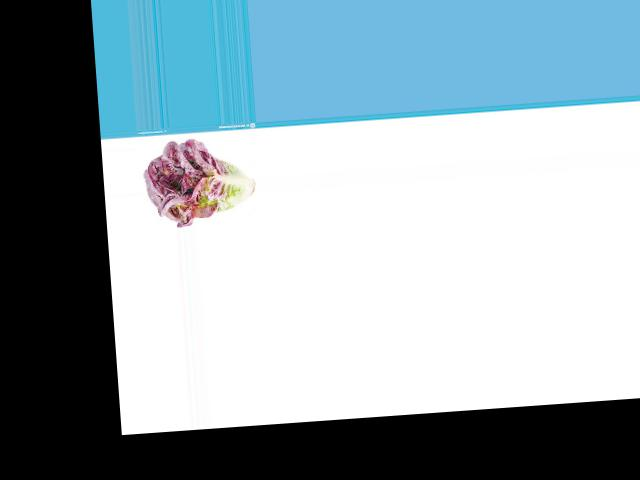lettuce: (143, 134, 258, 226)
